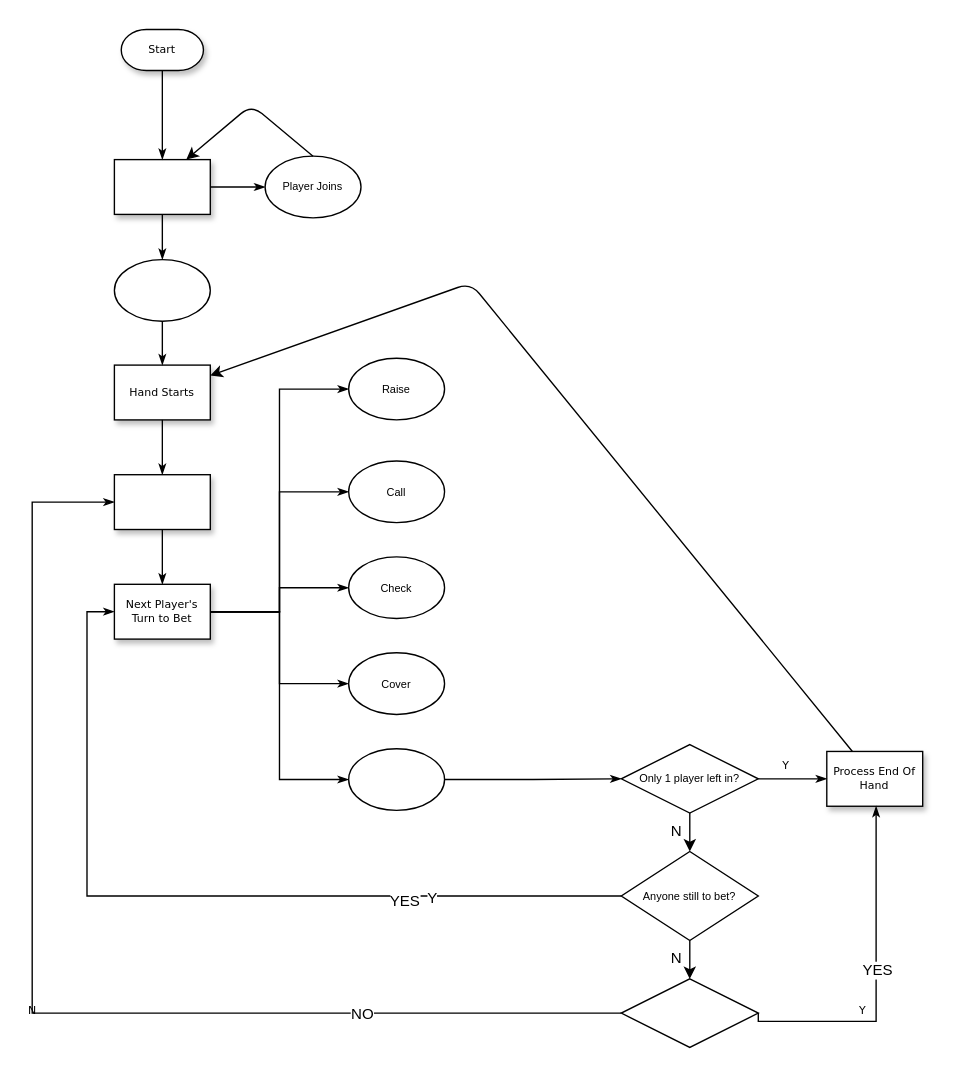
Image size: 955x1071. Some labels were removed from this diagram. The shapes that lost their labels are listed below. From the top down, each one's centre as x and y in pixels, then its label:
[163,188]: Game Open For Joiners
[161,289]: Player Starts Game
[163,503]: Card(s) Dealt
[396,778]: Fold
[689,1012]: All cards now dealt?
